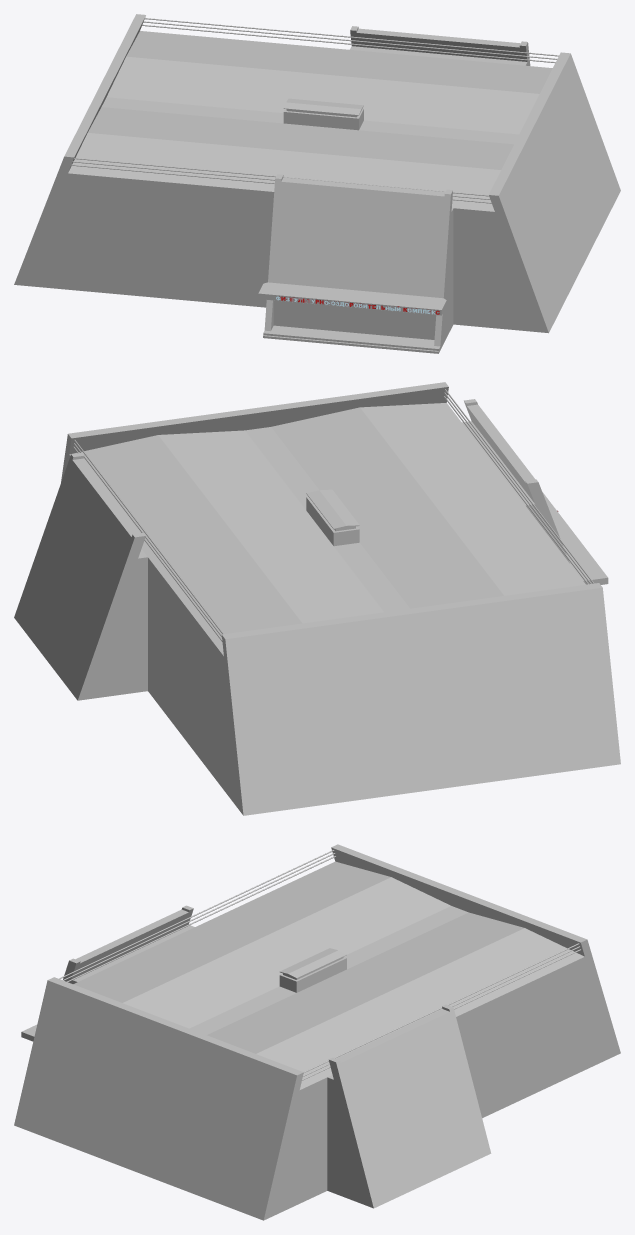
File: MODEL_HUB.fbx
3 views of the same model, one above another, from view 1: azimuth 30°, elevation 25°; view 2: azimuth 150°, elevation 25°; view 3: azimuth 270°, elevation 25° (orthographic). The views are drawn at different scales.
Parts seen in each view (by area): view 1: SM_LP_FOK; view 2: SM_LP_FOK; view 3: SM_LP_FOK.
Boxes of the visible parts, box(x1,y1,x2,y2) form: SM_LP_FOK: box(14, 14, 620, 353); SM_LP_FOK: box(14, 382, 620, 815); SM_LP_FOK: box(14, 844, 620, 1220).
Size of the model in its own units: 49.62 by 11.62 by 48.48.
